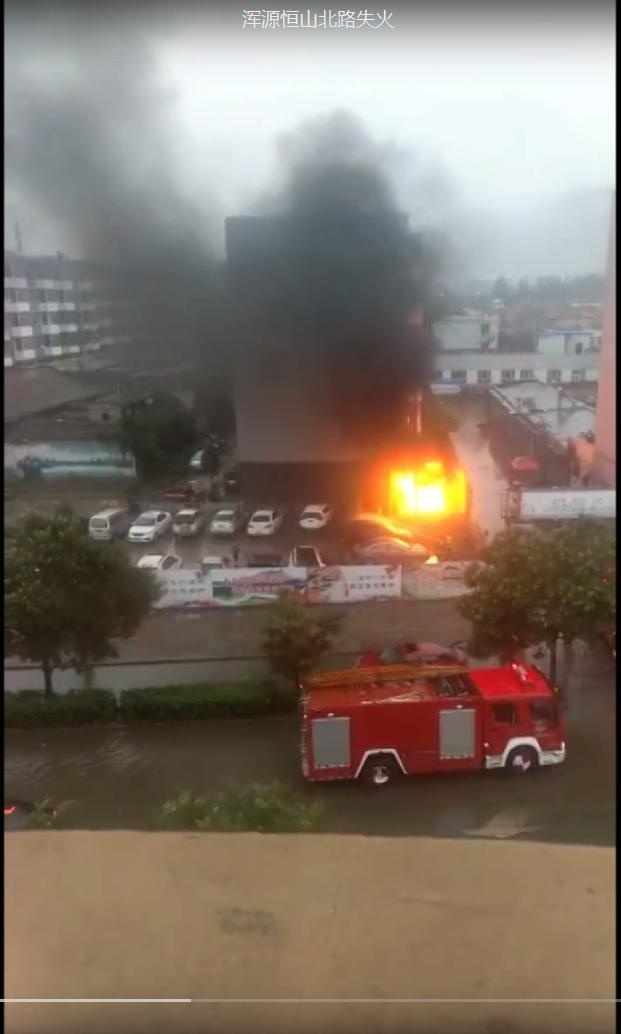fire: (370, 451, 468, 541)
